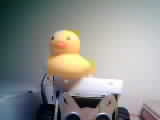duck: (42, 17, 99, 85)
